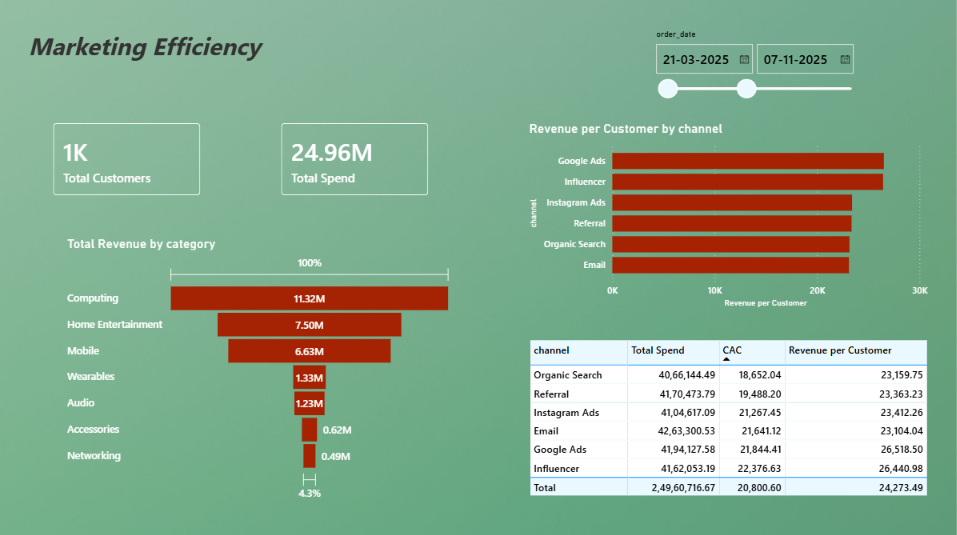

The dashboard page shown, as its layout file describes it:
{"tool":"powerbi","page":{"name":"Marketing Efficiency","canvas":[1280,720],"ordinal":1},"visuals":[{"type":"tableEx","fields":{"Values":["marketing_spend.channel","Key_Measures.Total Spend","Key_Measures.CAC","Key_Measures.Revenue per Customer"]},"box":[704.3,451.4,541.4,241.4],"z":0},{"type":"barChart","fields":{"Category":["marketing_spend.channel"],"Y":["Key_Measures.Revenue per Customer"]},"box":[704.3,164.3,541.4,254.3],"z":1000},{"type":"cardVisual","fields":{"Data":["Key_Measures.Total Spend"]},"box":[361.4,150,230,130],"z":2000},{"type":"slicer","fields":{"Values":["orders.order_date"]},"box":[865.7,37.1,294.3,111.4],"z":3000},{"type":"funnel","fields":{"Category":["products.category"],"Y":["Key_Measures.Total Revenue"]},"box":[88.6,317.1,522.9,358.6],"z":4000},{"type":"cardVisual","fields":{"Data":["Key_Measures.Total Customers"]},"box":[57.1,150,230,130],"z":5000},{"type":"textbox","box":[35.7,37.1,778.6,57.1],"z":6000}]}

Visuals, with their boxes in screenshot pixels (x1, y1, x2, y2), scaled from the page's 1280x720 canvas onto the 957x535 screenshot:
tableEx - marketing_spend.channel x Key_Measures.Total Spend: l=527, t=335, r=931, b=515
barChart - marketing_spend.channel x Key_Measures.Revenue per Customer: l=527, t=122, r=931, b=311
cardVisual - Key_Measures.Total Spend: l=270, t=111, r=442, b=208
slicer - orders.order_date: l=647, t=28, r=867, b=110
funnel - products.category x Key_Measures.Total Revenue: l=66, t=236, r=457, b=502
cardVisual - Key_Measures.Total Customers: l=43, t=111, r=215, b=208
textbox: l=27, t=28, r=609, b=70
